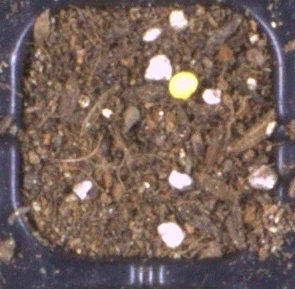chilli seed: (168, 70, 198, 100)
